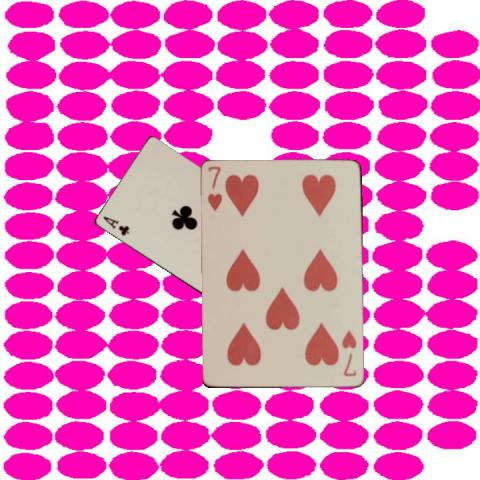7h: (339, 328, 359, 378), (205, 164, 224, 214)
Ac: (100, 214, 131, 238)
